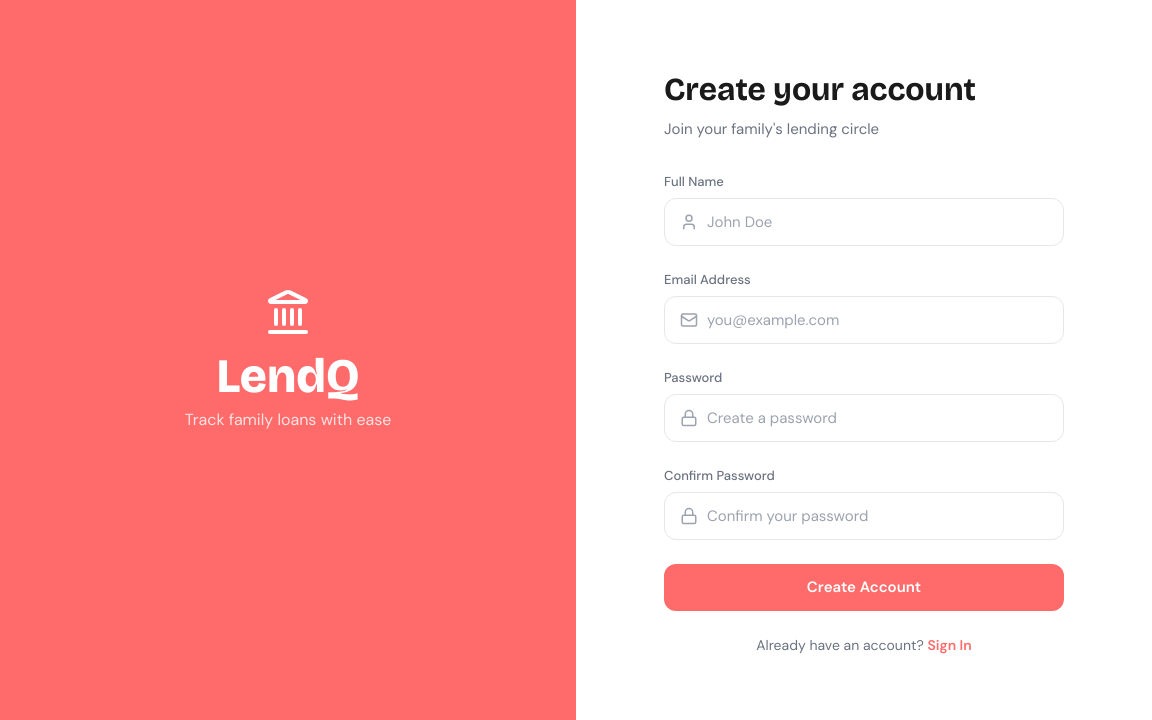
Test case: SignUpPage › shows field validation for mismatched passwords
Step 1. Type "Test User" into the field labelled "Full Name" → [864, 222], box [664, 198, 1064, 246]
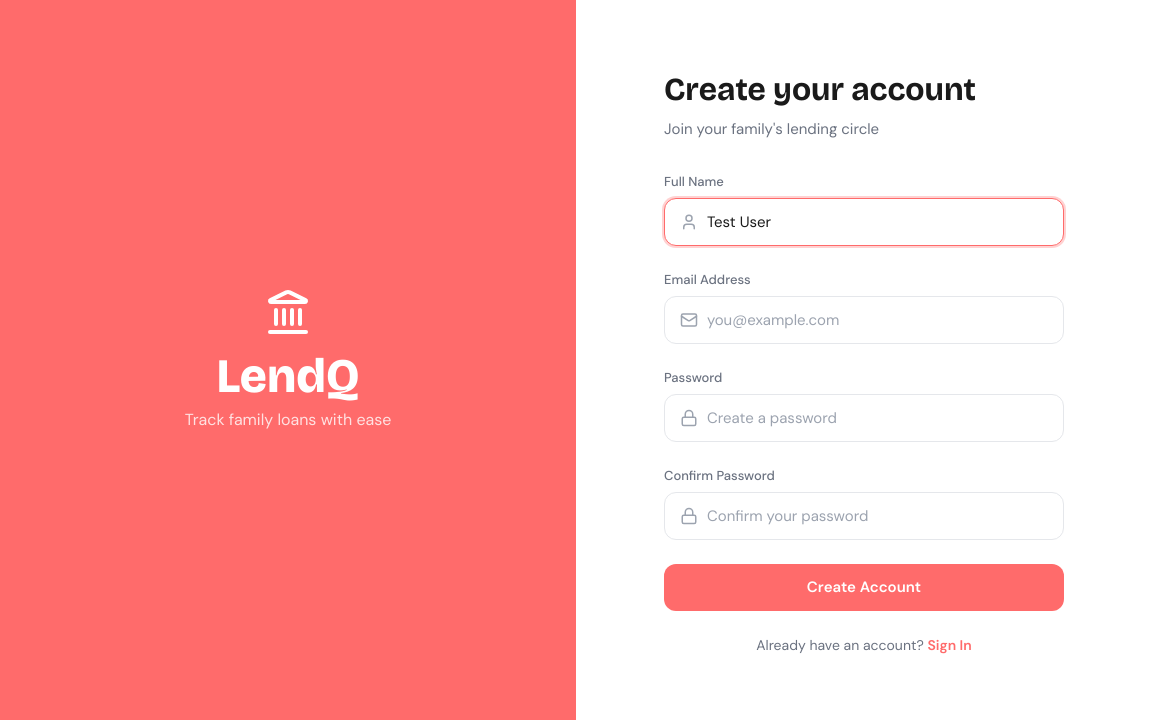
Step 2. Type "test@example.com" into the field labelled "Email Address" → [864, 320], box [664, 296, 1064, 344]
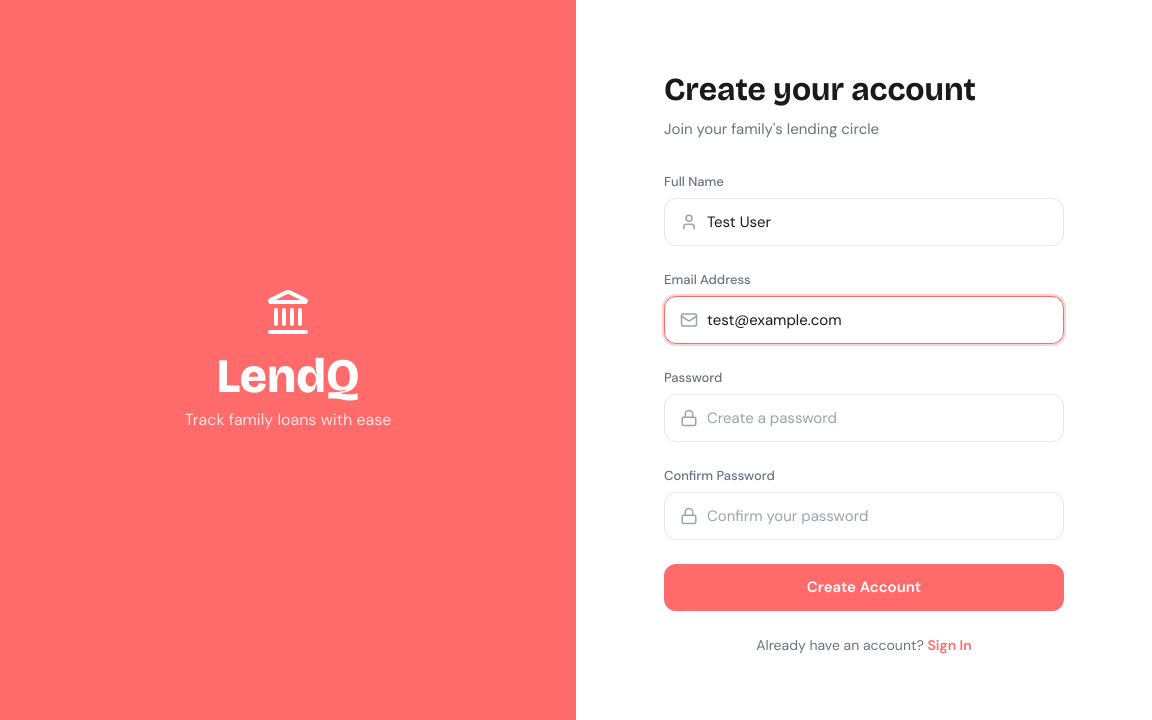
Step 3. Type "password123" into the password field labelled "Password" → [864, 418], box [664, 394, 1064, 442]
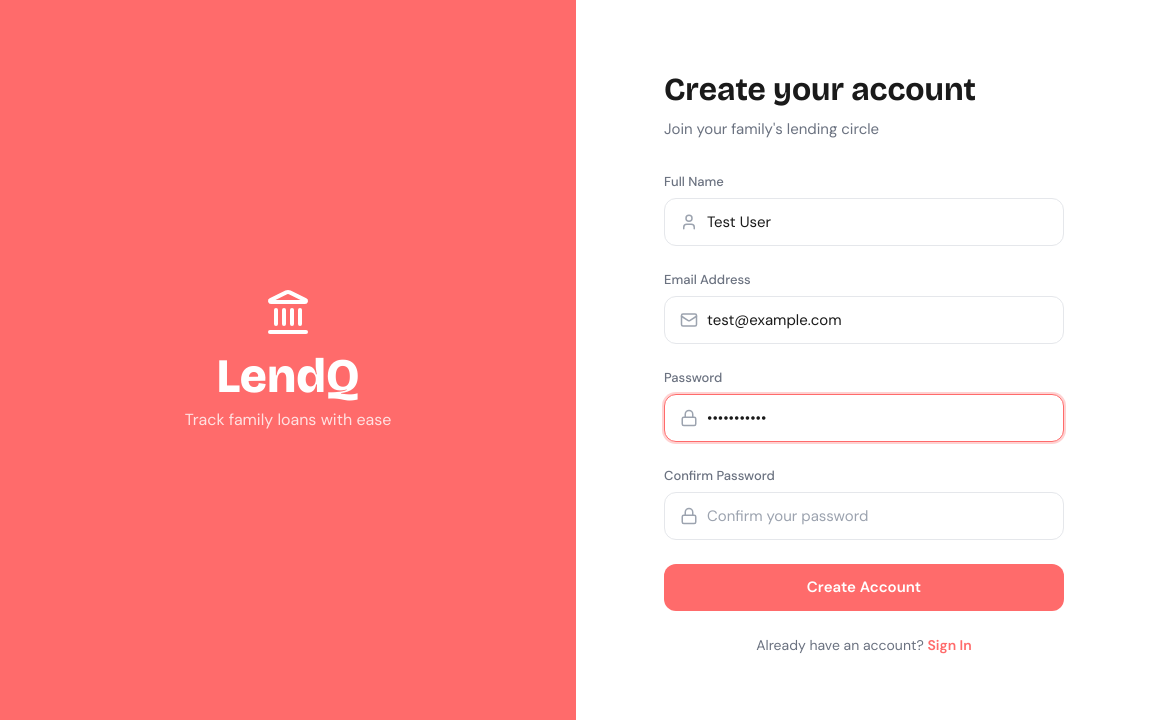
Step 4. Type "different123" into the password field labelled "Confirm Password" → [864, 516], box [664, 492, 1064, 540]
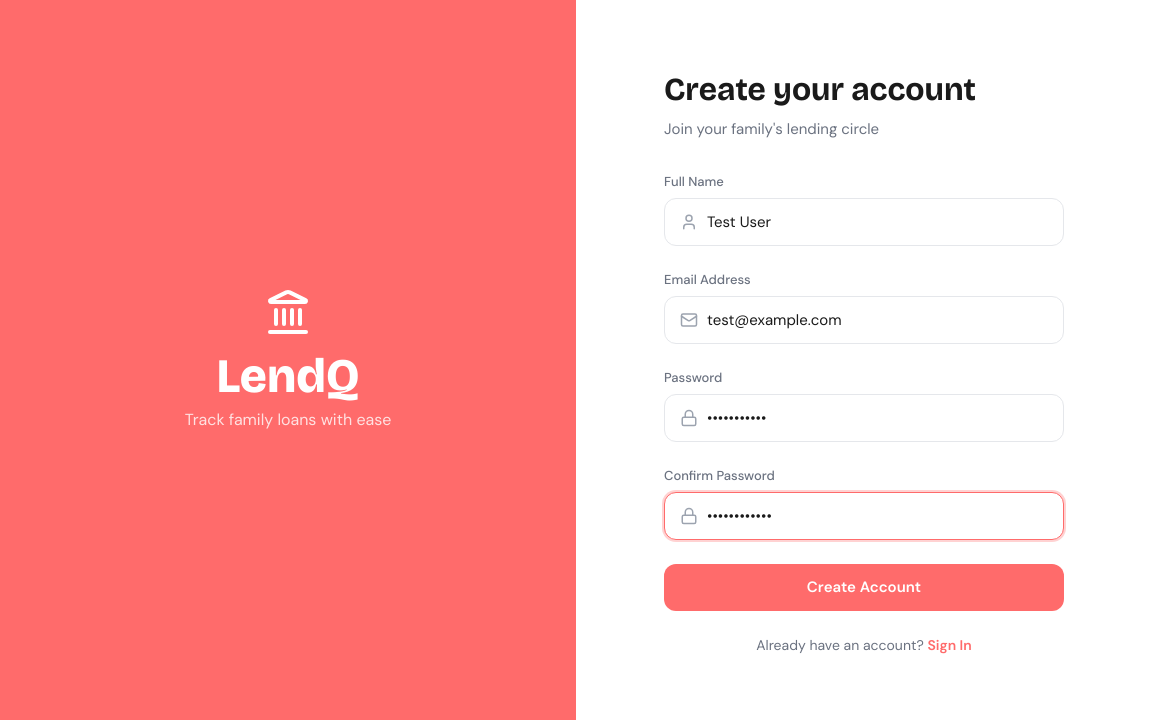
Step 5. Click the button "Create Account" → [864, 587], box [664, 564, 1064, 610]
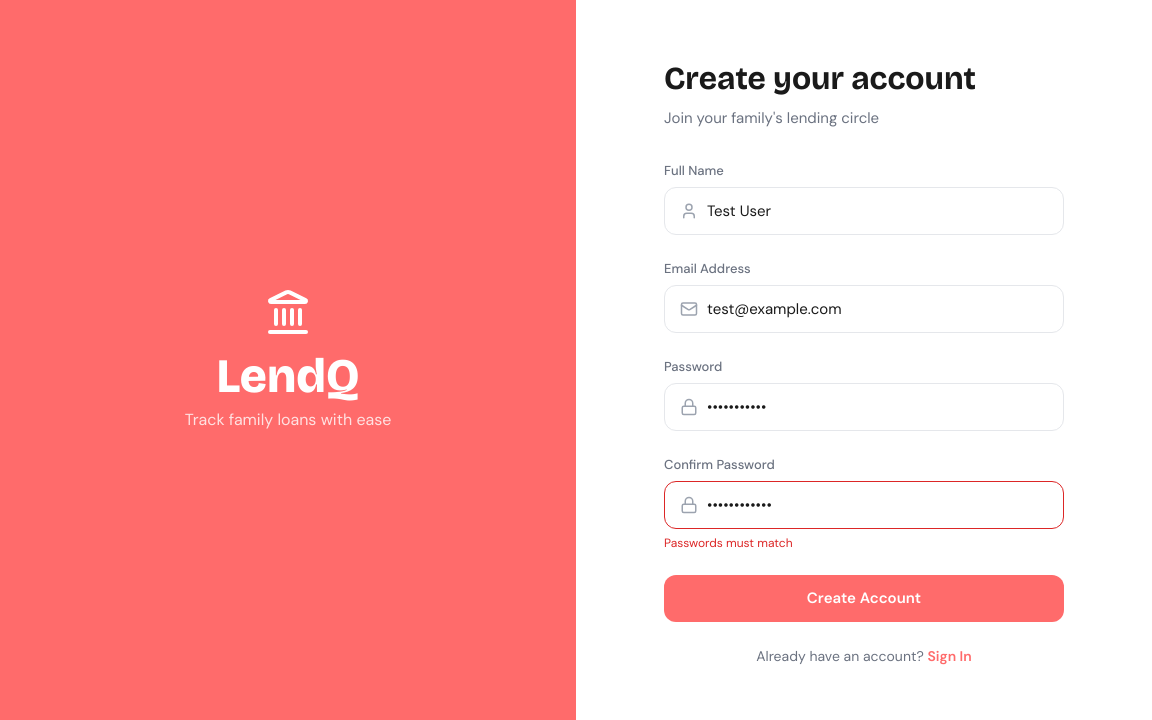
Now the text "Passwords must match" is shown, box [664, 535, 793, 551]
